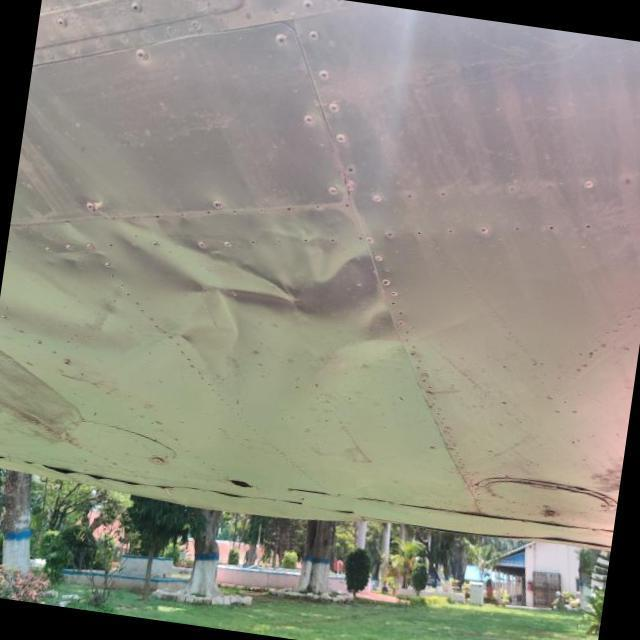Dent: (84, 168, 430, 388)
